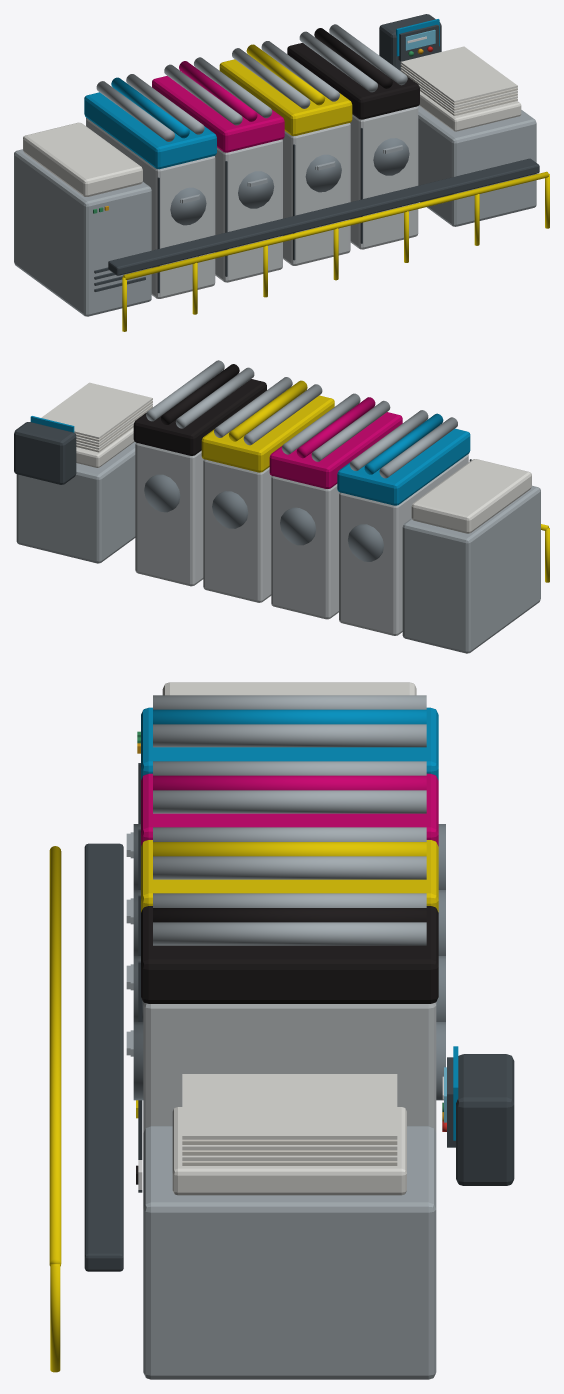
Rendered from m_offset.glb.
3 renders of one model, top to bottom at view 1: azimuth 30°, elevation 25°; view 2: azimuth 150°, elevation 25°; view 3: azimuth 270°, elevation 25°, orthographic. The views are drawn at different scales.
Parts seen in each view (by area): view 1: m_offset; view 2: m_offset; view 3: m_offset.
Part boxes in pixels (bbox=[...]): m_offset: bbox=[14, 14, 549, 331]; m_offset: bbox=[14, 360, 549, 653]; m_offset: bbox=[49, 682, 514, 1379].
Size of the model in its own units: 1.07 by 0.372 by 0.476.
